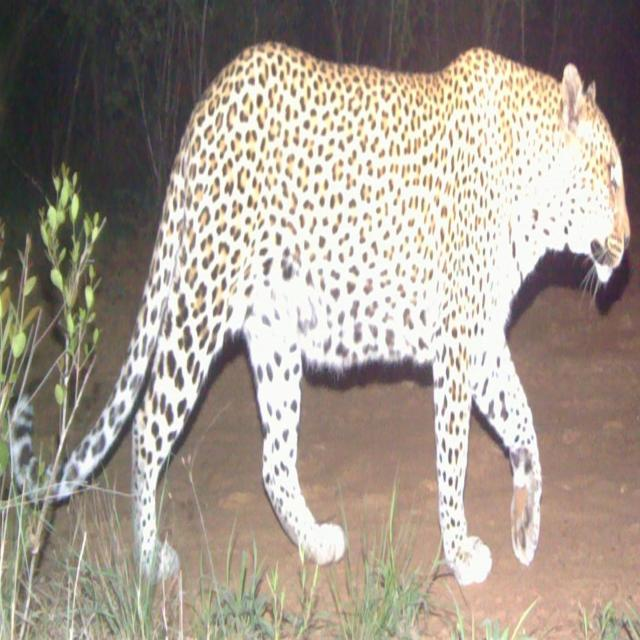Leopard: (36, 45, 621, 621)
